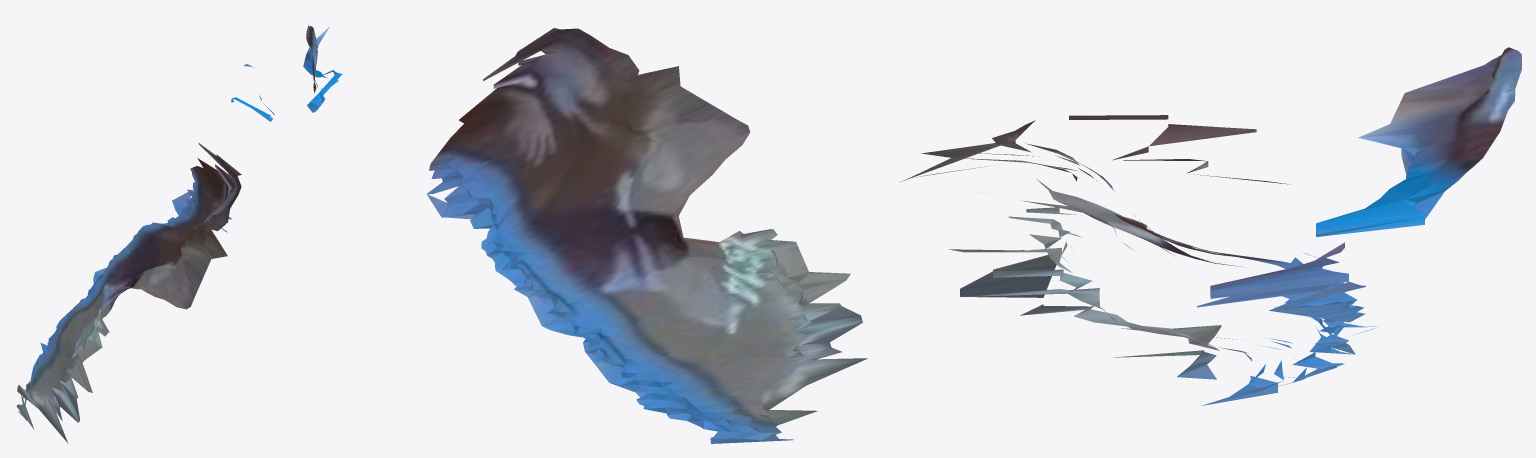
The model's file is observed-surface.glb.
The picture shows the model from 3 angles, left to right: view 1: azimuth 30°, elevation 25°; view 2: azimuth 150°, elevation 25°; view 3: azimuth 270°, elevation 25°; orthographic projection. The views are drawn at different scales.
Parts seen in each view (by area): view 1: geometry_0; view 2: geometry_0; view 3: geometry_0.
Part boxes in pixels (box(x1,y1,x2,y2)): geometry_0: box(16, 64, 274, 443); geometry_0: box(303, 25, 867, 443); geometry_0: box(899, 47, 1521, 405).
Size of the model in its own units: 0.3765 by 0.3704 by 0.3485.
1 material, 1 textured.
